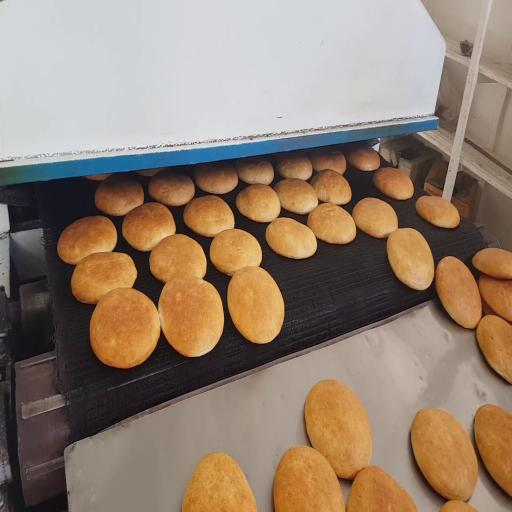bread: (305, 380, 371, 479), (411, 409, 477, 501), (90, 288, 160, 368), (158, 276, 223, 356), (274, 446, 345, 511), (227, 266, 284, 343), (182, 453, 256, 511), (435, 256, 481, 329), (71, 253, 137, 303), (475, 405, 511, 496), (347, 466, 417, 511), (387, 228, 434, 290), (58, 216, 117, 264), (150, 234, 206, 283), (122, 202, 175, 251), (210, 229, 262, 275), (477, 315, 511, 383), (266, 218, 317, 259), (183, 196, 234, 237), (95, 174, 144, 216), (308, 203, 356, 244), (352, 198, 398, 238), (236, 184, 280, 222), (148, 170, 194, 206), (274, 179, 318, 214), (479, 275, 511, 321), (416, 196, 459, 228), (195, 162, 238, 194), (311, 170, 351, 204), (373, 168, 414, 200), (472, 248, 511, 279), (235, 157, 274, 184), (276, 152, 312, 180), (311, 148, 346, 174), (347, 146, 380, 171), (440, 501, 477, 511), (481, 294, 497, 316), (136, 168, 166, 177), (85, 174, 111, 181)
